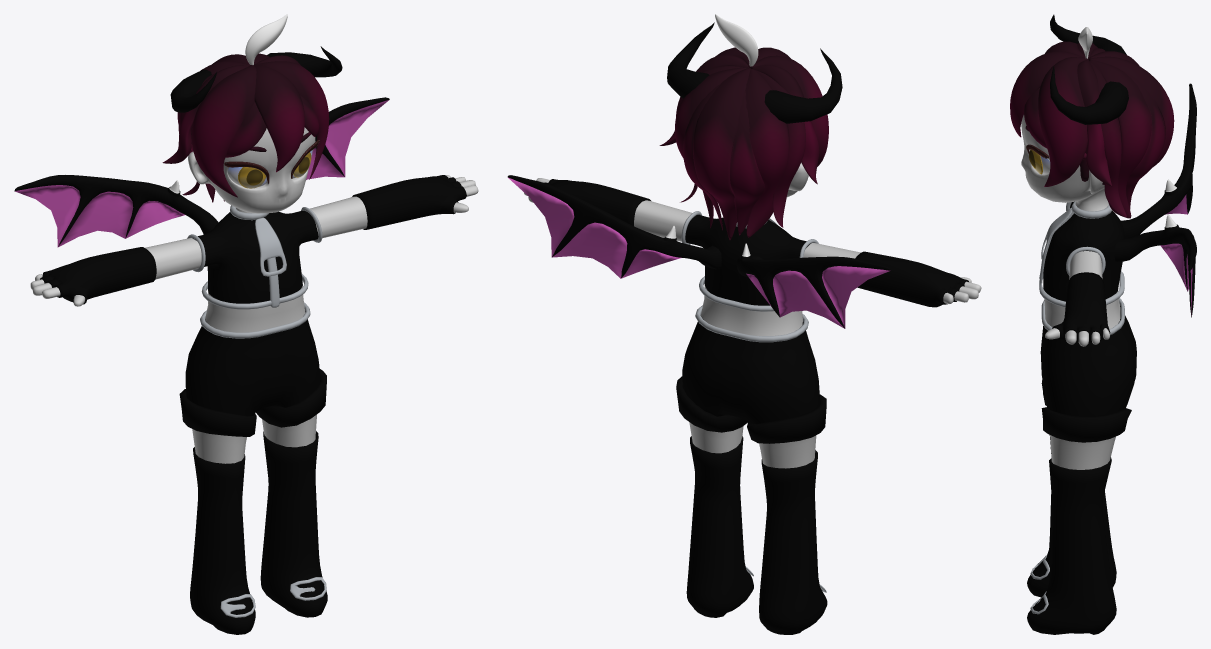
Rendered from BelethSinRig.fbx.
3 renders of one model, left to right at view 1: azimuth 30°, elevation 25°; view 2: azimuth 150°, elevation 25°; view 3: azimuth 270°, elevation 25°, orthographic. The views are drawn at different scales.
Visible parts, largest first — view 1: BodyNew, Boots, Cube.001, Gloves, Fringe3, BodyNew.001, Fringe1, BodyNew.004, BezierCurve.001, Fringe2, Back1, Zipper.001 (+3 smaller); view 2: BodyNew, Boots, Cube.001, Back3, Gloves, Back5, Back4, BezierCurve.001, BodyNew.001, Back1, Back2, Fringe3 (+2 smaller); view 3: BodyNew, Boots, Cube.001, Fringe3, Back3, BezierCurve.001, Gloves, BodyNew.001, Back1, Fringe1, BodyNew.004, Back2 (+6 smaller).
Boxes of the visible parts, <box> form: BodyNew: <box>30,127,478,463</box>; Boots: <box>190,431,327,634</box>; Cube.001: <box>14,97,389,247</box>; Gloves: <box>40,175,466,304</box>; Fringe3: <box>191,61,329,197</box>; BodyNew.001: <box>179,369,326,436</box>; Fringe1: <box>254,65,304,172</box>; BodyNew.004: <box>187,205,322,338</box>; BezierCurve.001: <box>170,46,342,112</box>; Fringe2: <box>225,95,319,157</box>; Back1: <box>162,55,300,163</box>; Zipper.001: <box>255,217,286,276</box>; BodyNew: <box>524,162,981,468</box>; Boots: <box>686,436,827,634</box>; Cube.001: <box>507,175,890,328</box>; Back3: <box>675,67,789,237</box>; Gloves: <box>544,179,968,307</box>; Back5: <box>693,67,750,239</box>; Back4: <box>683,80,764,235</box>; BezierCurve.001: <box>667,22,842,123</box>; BodyNew.001: <box>676,376,826,443</box>; Back1: <box>659,55,819,184</box>; Back2: <box>676,66,805,227</box>; Fringe3: <box>715,47,828,166</box>; BodyNew: <box>1021,115,1136,469</box>; Boots: <box>1027,435,1116,634</box>; Cube.001: <box>1114,83,1196,317</box>; Fringe3: <box>1038,41,1089,186</box>; Back3: <box>1088,51,1151,218</box>; BezierCurve.001: <box>1050,14,1128,124</box>; Gloves: <box>1052,272,1110,343</box>; BodyNew.001: <box>1041,379,1131,442</box>; Back1: <box>1077,43,1111,186</box>; Fringe1: <box>1010,51,1083,137</box>; BodyNew.004: <box>1039,201,1124,335</box>; Back2: <box>1090,48,1126,217</box>.
Size of the model in its own units: 264 by 334 by 94.93.
